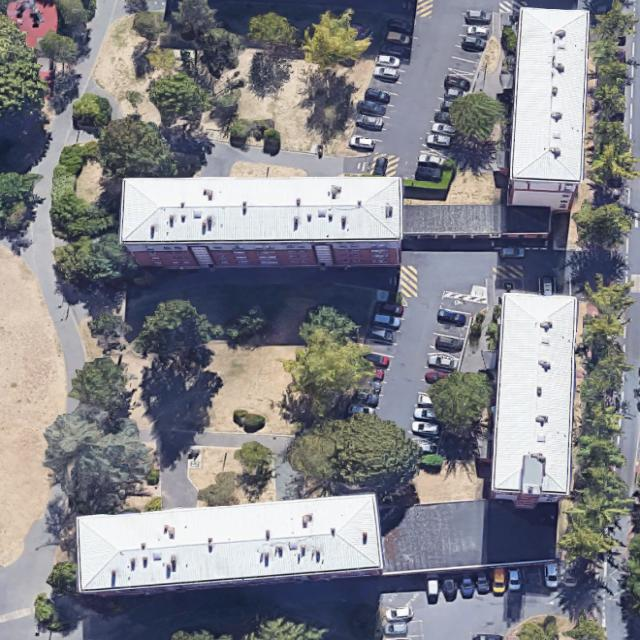immeuble: (71, 493, 384, 598), (119, 176, 403, 271), (491, 291, 578, 509), (506, 6, 595, 212), (380, 498, 557, 572), (403, 204, 550, 237)
